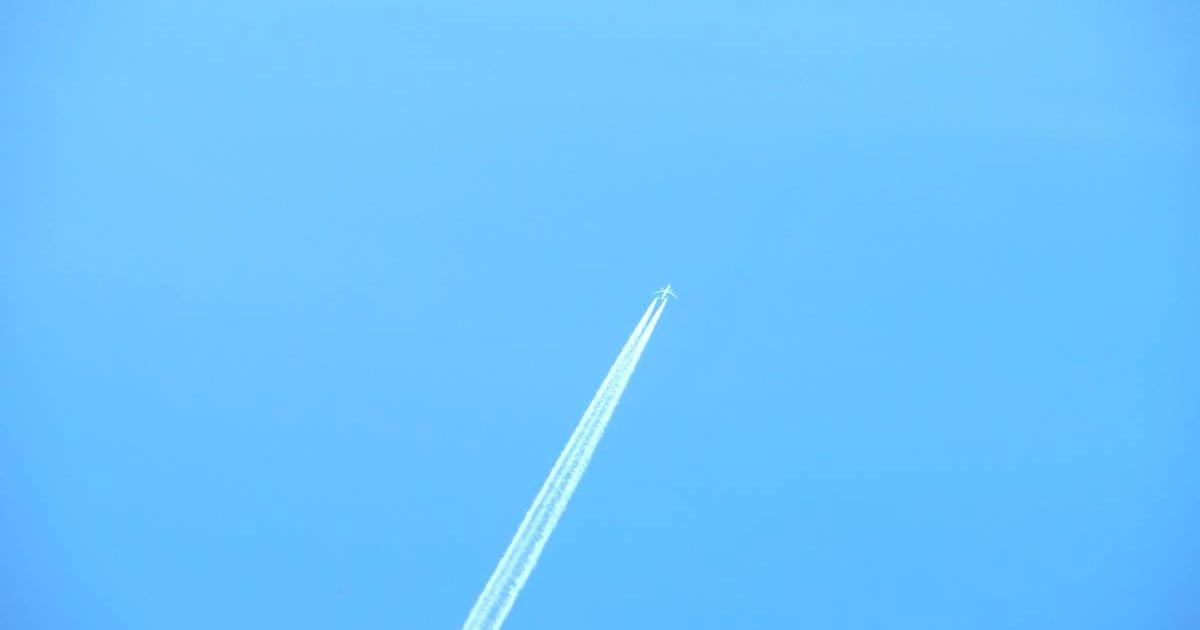Plane: (448, 230, 740, 624)
